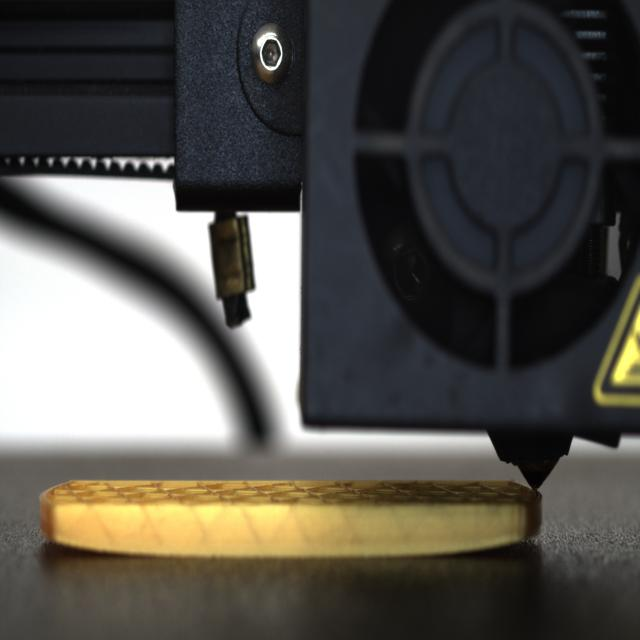Warping: (453, 528, 536, 560)
